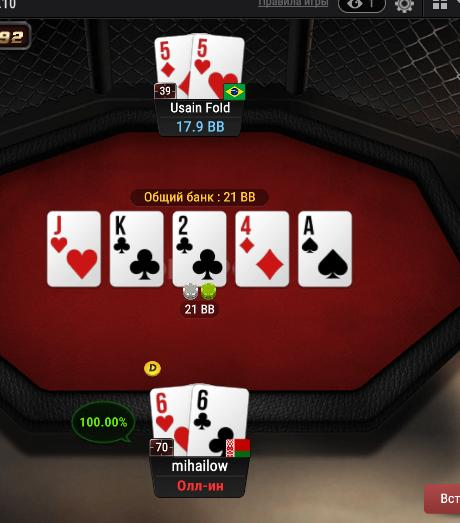2c: (173, 211, 226, 286)
4d: (236, 211, 289, 286)
5d: (154, 38, 192, 100)
5h: (194, 33, 244, 100)
6c: (191, 384, 248, 461)
6h: (148, 387, 190, 457)
As: (299, 210, 352, 286)
Jh: (47, 211, 99, 286)
Kc: (110, 212, 164, 286)
